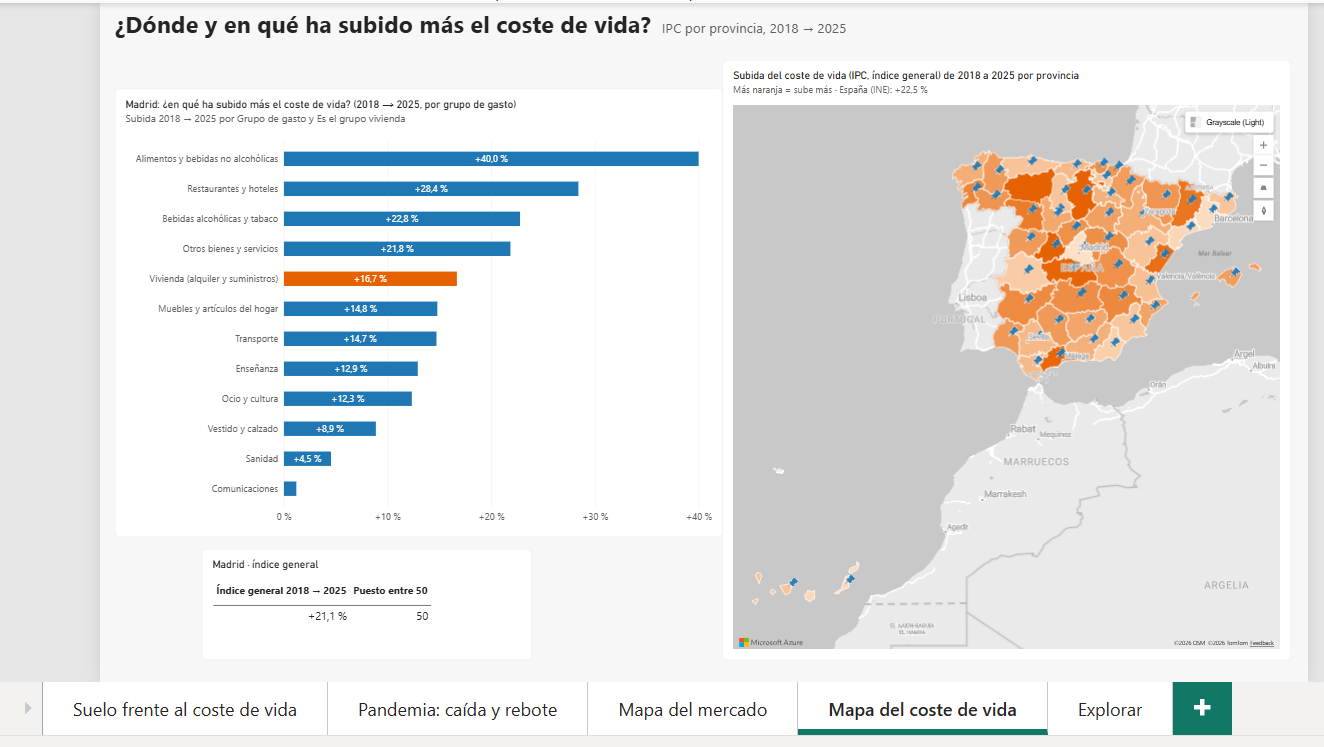

The page's visual inventory and layout, read from the dashboard file:
{"tool":"powerbi","page":{"name":"Mapa del coste de vida","canvas":[1920,1080],"ordinal":3},"visuals":[{"type":"textbox","box":[24,8,1500,88],"z":0},{"type":"slicer","fields":{"Values":["MART_COSTE_VIDA.NOMBRE_GRUPO_CORTO"]},"box":[1550.8,95.4,307.8,126.5],"z":1000},{"type":"azureMap","fields":{"Category":["MART_COSTE_VIDA.PAIS","MART_COSTE_VIDA.PROVINCIA"]},"box":[0,105,947.2,952],"z":2000},{"type":"multiRowCard","fields":{"Values":["Medidas.C4 Subida del coste de vida","Medidas.C4 Puesto (texto)"]},"box":[1238.3,74,250.5,147.9],"z":3000},{"type":"barChart","fields":{"Category":["MART_COSTE_VIDA.NOMBRE_GRUPO_CORTO"],"Series":["MART_COSTE_VIDA.ES_GRUPO_VIVIENDA"],"Y":["Medidas.C4 Subida del coste de vida"]},"box":[947.2,243.4,949.6,813.6],"z":4000}]}

Visuals, with their boxes on the page's 1920x1080 design canvas (x1, y1, x2, y2). These are canvas units, not pixel positions in the 1324x747 screenshot, which may show the page scaled, cropped or inside an application window:
textbox: (x1=24, y1=8, x2=1524, y2=96)
slicer - MART_COSTE_VIDA.NOMBRE_GRUPO_CORTO: (x1=1551, y1=95, x2=1859, y2=222)
azureMap - MART_COSTE_VIDA.PAIS x MART_COSTE_VIDA.PROVINCIA: (x1=0, y1=105, x2=947, y2=1057)
multiRowCard - Medidas.C4 Subida del coste de vida x Medidas.C4 Puesto (texto): (x1=1238, y1=74, x2=1489, y2=222)
barChart - MART_COSTE_VIDA.NOMBRE_GRUPO_CORTO x MART_COSTE_VIDA.ES_GRUPO_VIVIENDA: (x1=947, y1=243, x2=1897, y2=1057)
